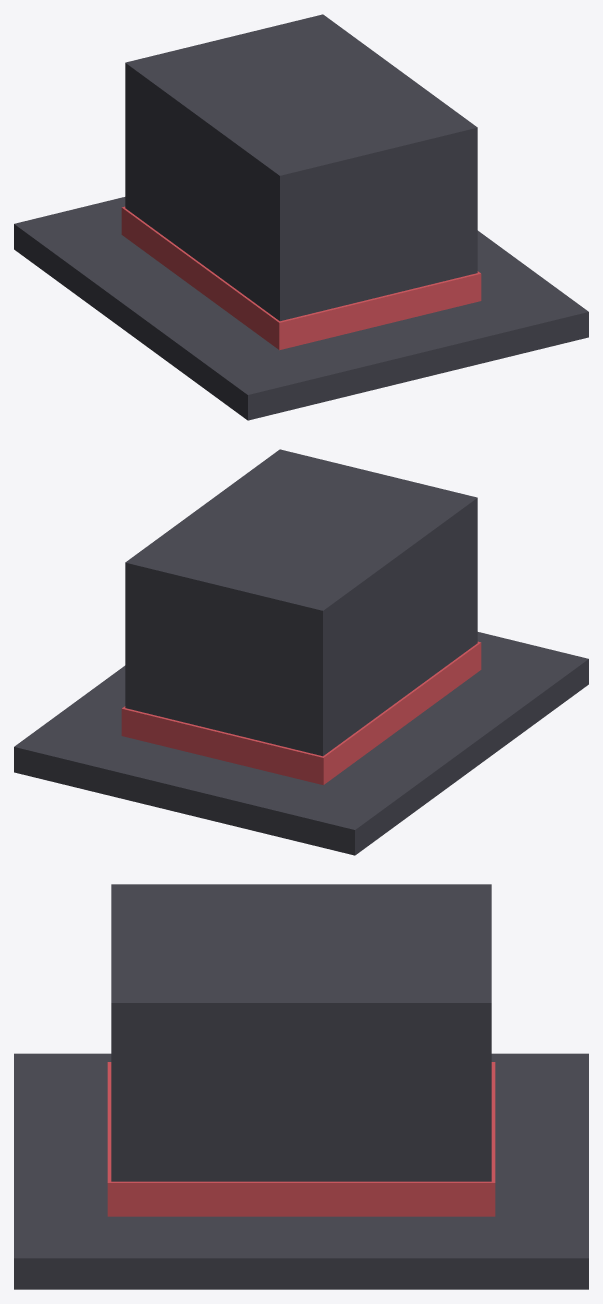
The model's file is cartola.glb.
The picture shows the model from 3 angles, top to bottom: view 1: azimuth 30°, elevation 25°; view 2: azimuth 150°, elevation 25°; view 3: azimuth 270°, elevation 25°; orthographic projection. The views are drawn at different scales.
Visible parts, largest first — view 1: Cartola; view 2: Cartola; view 3: Cartola.
Boxes of the visible parts, <box> form: Cartola: <box>14,14,588,420</box>; Cartola: <box>14,449,588,855</box>; Cartola: <box>14,884,588,1289</box>.
Bounding box in the file's own units: 0.81 × 0.45 × 0.962.
